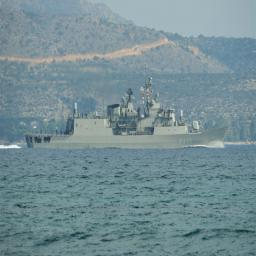Fragata: (24, 65, 232, 152)
